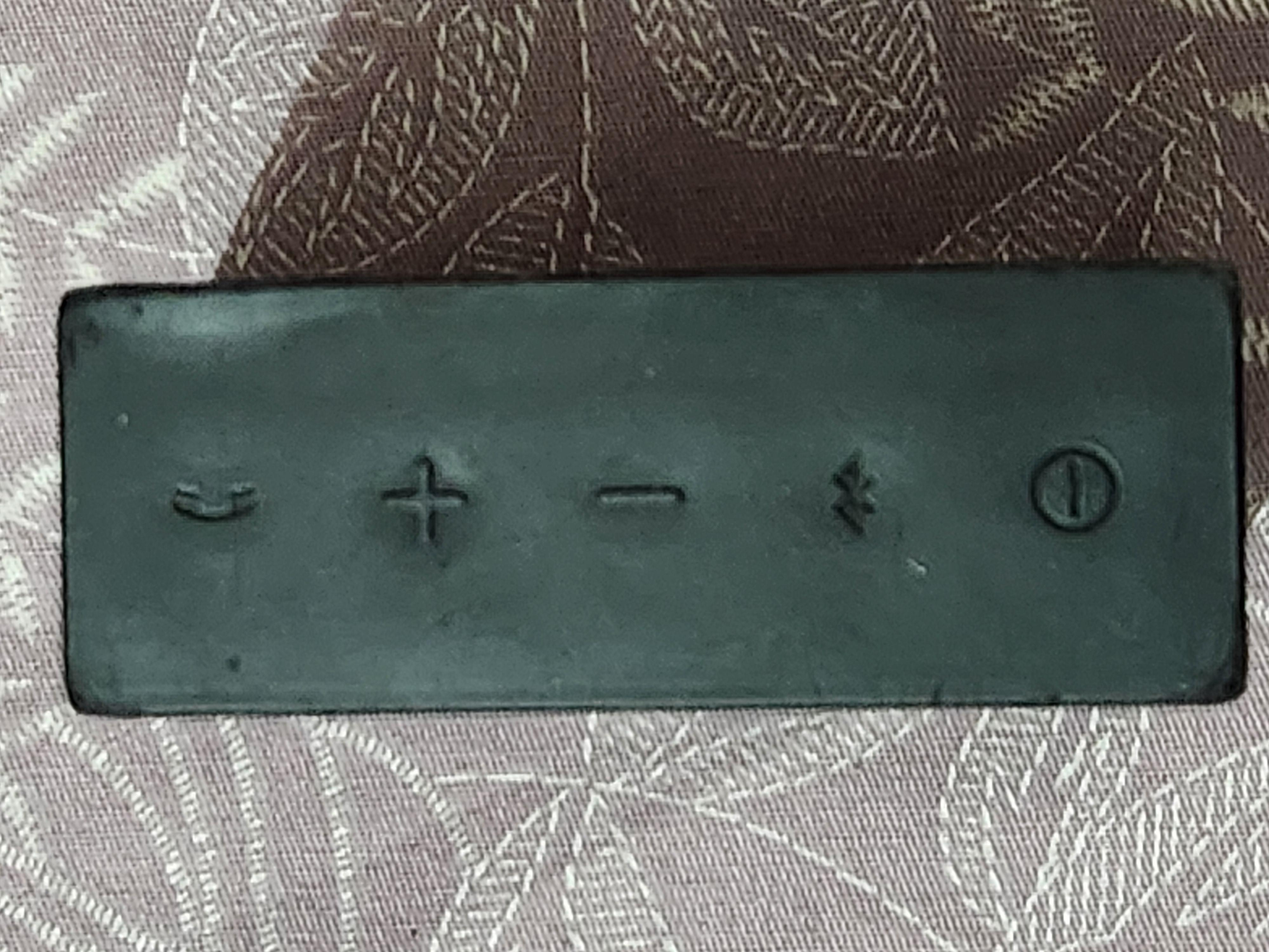speaker: (296, 36, 936, 939)
